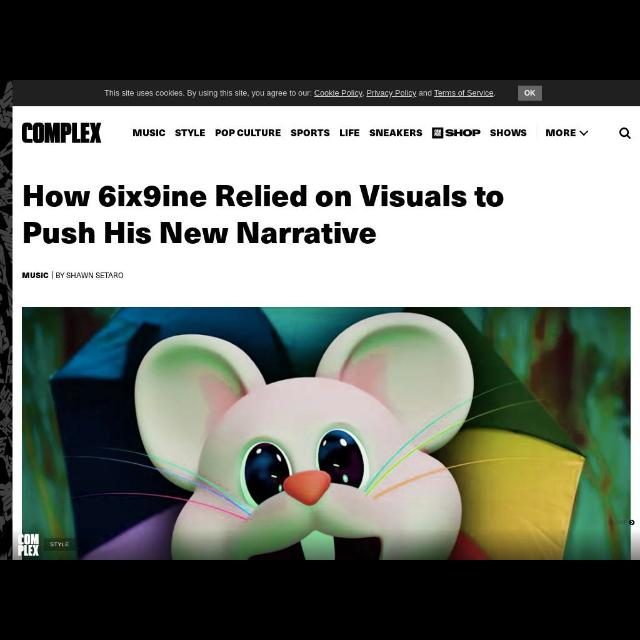icon: (620, 128, 630, 138), (581, 129, 589, 135)
image: (22, 307, 630, 559), (22, 120, 102, 144), (432, 128, 442, 138)
multitab: (132, 128, 590, 140)
spinner: (544, 128, 590, 140)
text: (23, 185, 503, 243), (102, 88, 496, 99), (22, 272, 124, 278), (370, 129, 422, 137), (216, 130, 280, 136), (133, 128, 165, 138), (290, 128, 330, 136), (546, 129, 578, 137), (490, 130, 528, 136), (176, 129, 204, 137), (445, 130, 479, 136), (339, 128, 359, 138), (526, 90, 536, 96)
textbutton: (518, 86, 540, 100)
